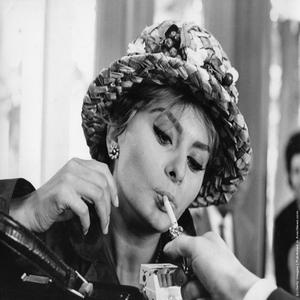cigarette: (161, 193, 184, 238)
